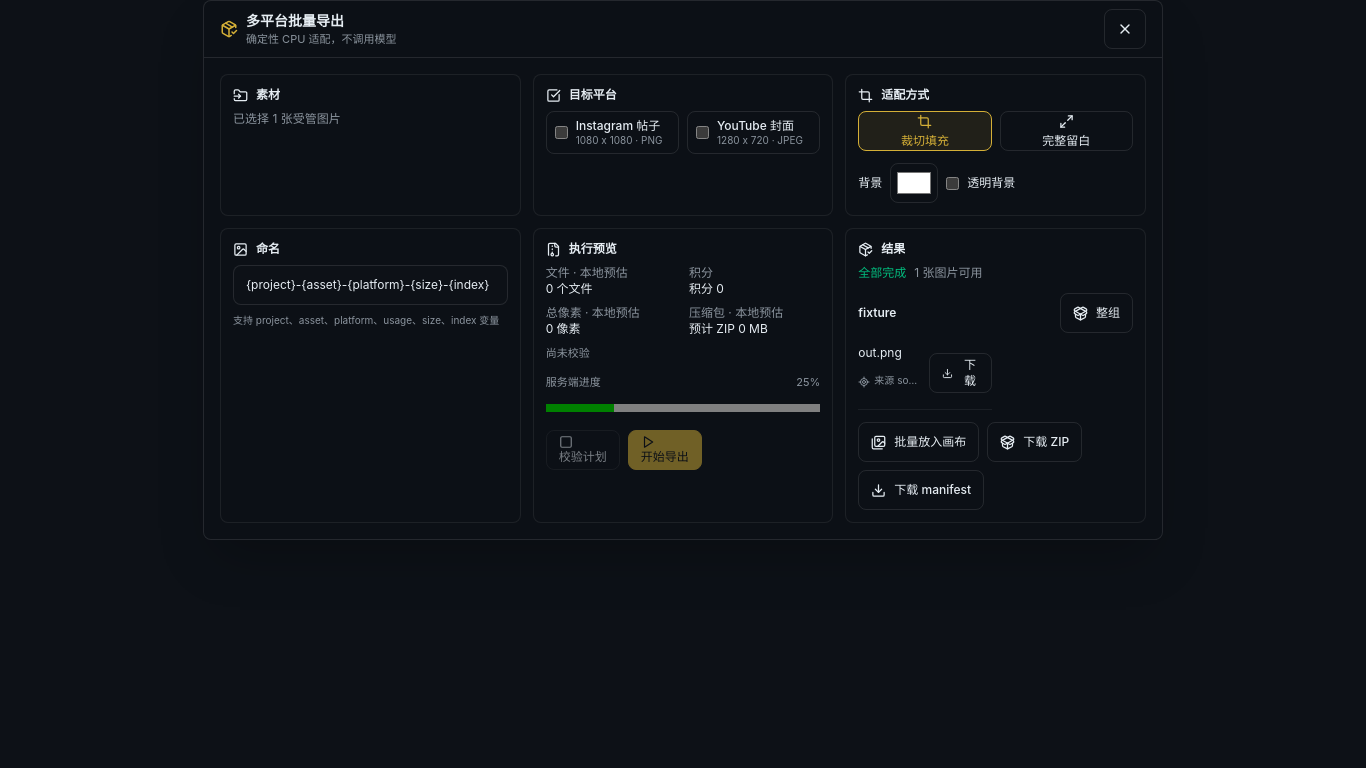
Test: MultiPlatformExportDrawer › 1397 fix1 actual Drawer source boundary denied
Click the button with aria-label "定位来源 source-v". click: (890, 381)
box: [858,361,921,401]
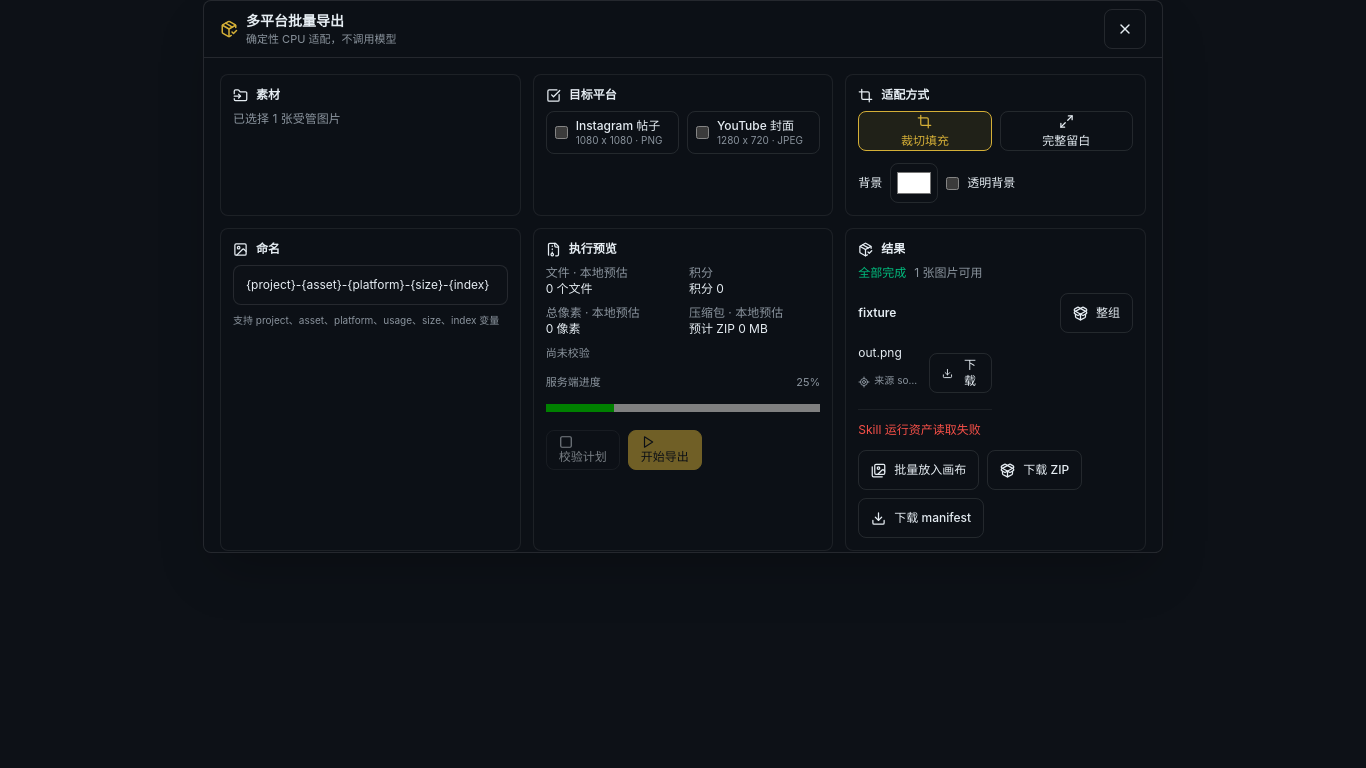
Check: the message "Skill 运行资产读取失败" is shown, box [858,422,981,437]
